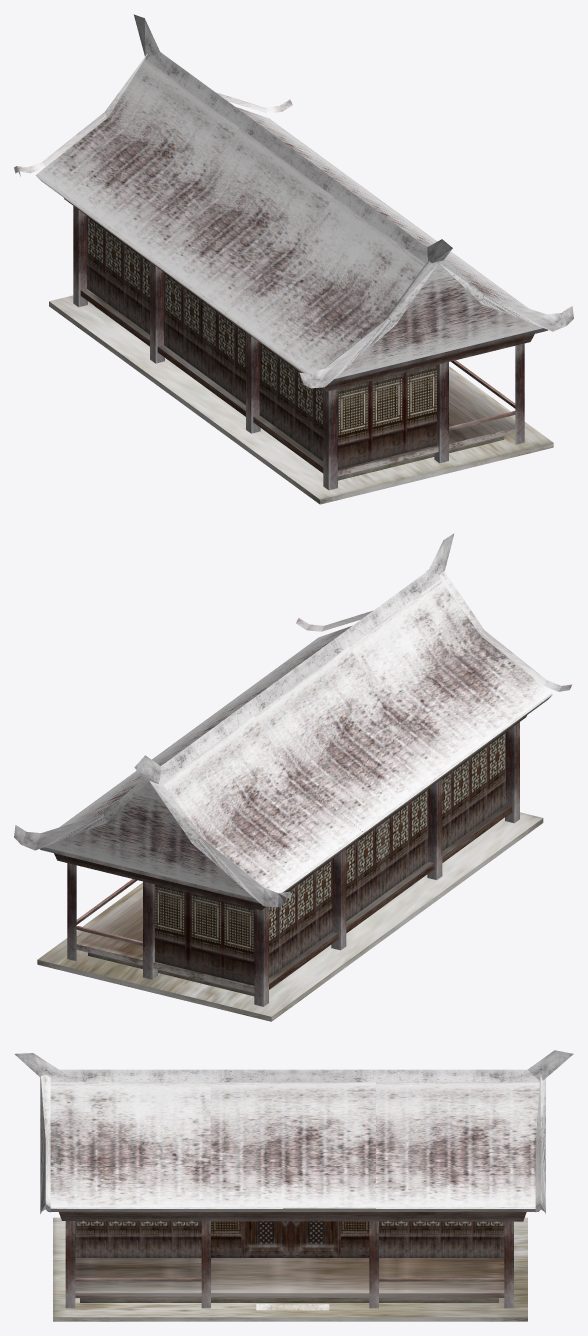
The model's file is snow-033-guesthouse-02_lod_01.glb.
3 renders of one model, top to bottom at view 1: azimuth 30°, elevation 25°; view 2: azimuth 150°, elevation 25°; view 3: azimuth 270°, elevation 25°, orthographic. The views are drawn at different scales.
Parts seen in each view (by area): view 1: snow-033-guesthouse-01, snow-033-guesthouse-02; view 2: snow-033-guesthouse-01, snow-033-guesthouse-02; view 3: snow-033-guesthouse-01, snow-033-guesthouse-02.
Part boxes in pixels (box(x1,y1,x2,y2)): snow-033-guesthouse-01: box(14, 14, 573, 480); snow-033-guesthouse-02: box(49, 198, 553, 504); snow-033-guesthouse-01: box(14, 533, 572, 996); snow-033-guesthouse-02: box(37, 715, 543, 1021); snow-033-guesthouse-01: box(14, 1050, 573, 1310); snow-033-guesthouse-02: box(53, 1208, 527, 1321).
Bounding box in the file's own units: 13.56 × 11.86 × 27.45.
2 materials, 2 textured.
